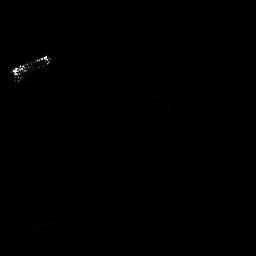ship: (10, 53, 52, 85)
